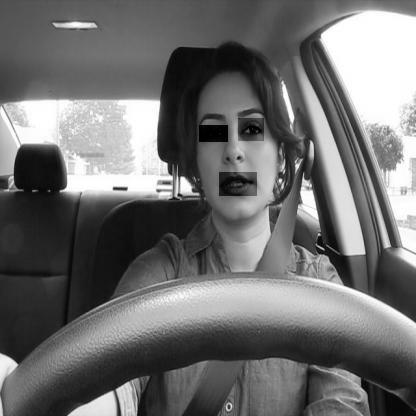seatbelt: (172, 39, 312, 416)
